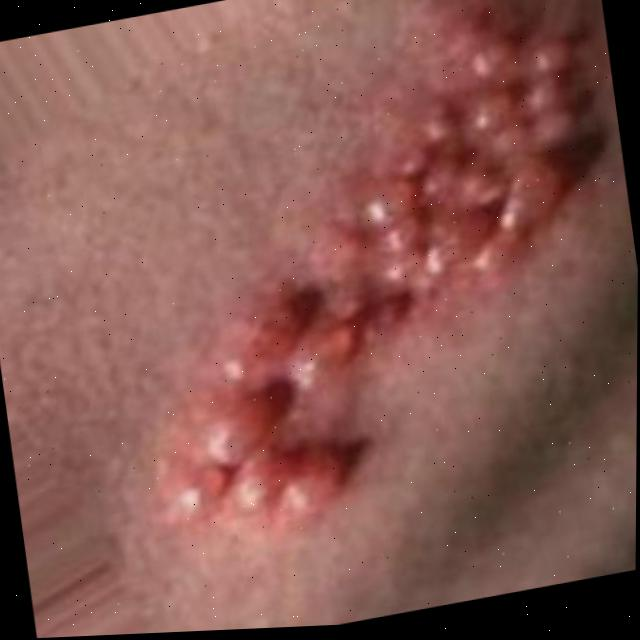Shingles: (100, 0, 640, 547)
